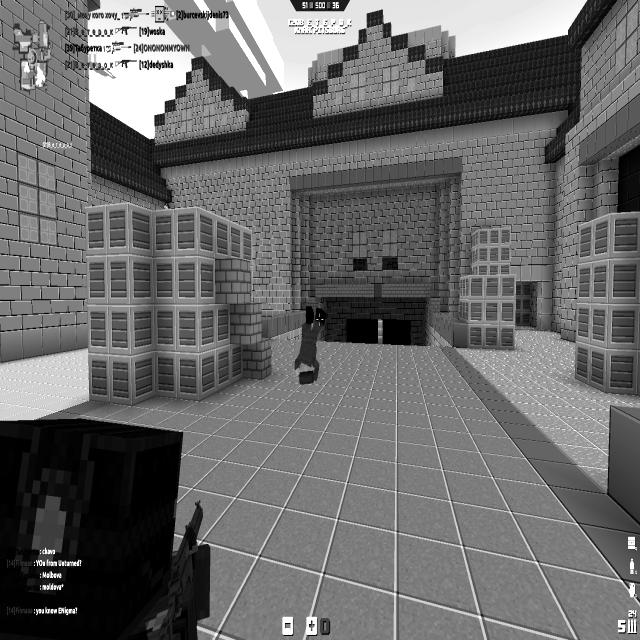Head: (0, 417, 177, 626), (300, 364, 312, 382), (164, 203, 170, 210)
Player: (0, 413, 214, 640), (294, 303, 326, 384), (162, 203, 170, 210)
